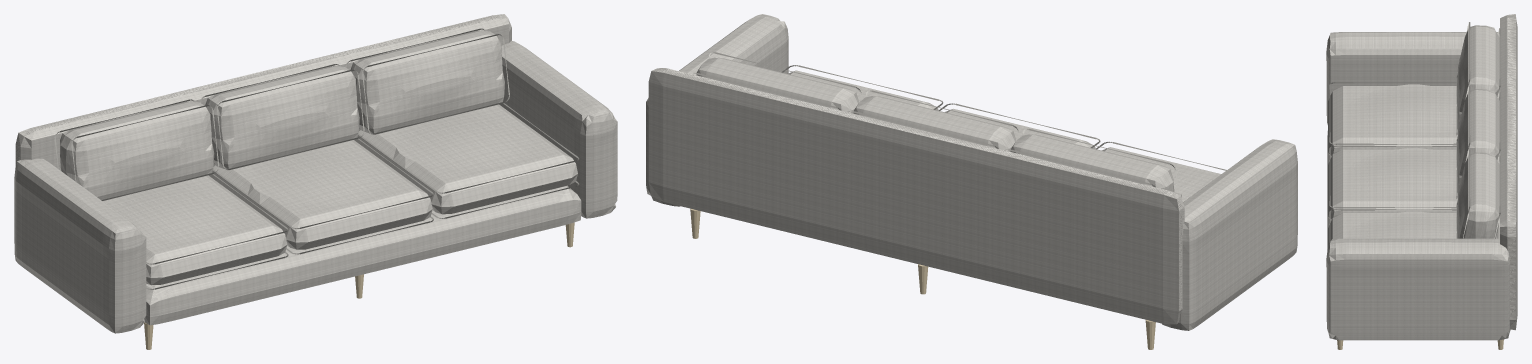
The model's file is LIT-SOF-4-seat.glb.
The picture shows the model from 3 angles, left to right: view 1: azimuth 30°, elevation 25°; view 2: azimuth 150°, elevation 25°; view 3: azimuth 270°, elevation 25°; orthographic projection. The views are drawn at different scales.
Visible parts, largest first — view 1: deck:fabric:eyJwcmVzZXQiOiJsaW5lbiIsIndhcnAiOiJ3aGl0ZSIsIndl, arm-pad-l:fabric:eyJwcmVzZXQiOiJsaW5lbiIsIndhcnAiOiJ3aGl0ZSI, seat-3:fabric:eyJwcmVzZXQiOiJsaW5lbiIsIndhcnAiOiJ3aGl0ZSIsIn, seat-2:fabric:eyJwcmVzZXQiOiJsaW5lbiIsIndhcnAiOiJ3aGl0ZSIsIn, seat-1:fabric:eyJwcmVzZXQiOiJsaW5lbiIsIndhcnAiOiJ3aGl0ZSIsIn, back-3:fabric:eyJwcmVzZXQiOiJsaW5lbiIsIndhcnAiOiJ3aGl0ZSIsIn, back-2:fabric:eyJwcmVzZXQiOiJsaW5lbiIsIndhcnAiOiJ3aGl0ZSIsIn, back-1:fabric:eyJwcmVzZXQiOiJsaW5lbiIsIndhcnAiOiJ3aGl0ZSIsIn, arm-pad-r:fabric:eyJwcmVzZXQiOiJsaW5lbiIsIndhcnAiOiJ3aGl0ZSI, back-pad:fabric:eyJwcmVzZXQiOiJsaW5lbiIsIndhcnAiOiJ3aGl0ZSIs, back-2:piping:pbr, back-3:piping:pbr (+4 smaller); view 2: back-pad:fabric:eyJwcmVzZXQiOiJsaW5lbiIsIndhcnAiOiJ3aGl0ZSIs, arm-pad-l:fabric:eyJwcmVzZXQiOiJsaW5lbiIsIndhcnAiOiJ3aGl0ZSI, arm-pad-r:fabric:eyJwcmVzZXQiOiJsaW5lbiIsIndhcnAiOiJ3aGl0ZSI, back-1:fabric:eyJwcmVzZXQiOiJsaW5lbiIsIndhcnAiOiJ3aGl0ZSIsIn, back-3:fabric:eyJwcmVzZXQiOiJsaW5lbiIsIndhcnAiOiJ3aGl0ZSIsIn, back-2:fabric:eyJwcmVzZXQiOiJsaW5lbiIsIndhcnAiOiJ3aGl0ZSIsIn, seat-1:fabric:eyJwcmVzZXQiOiJsaW5lbiIsIndhcnAiOiJ3aGl0ZSIsIn, seat-2:fabric:eyJwcmVzZXQiOiJsaW5lbiIsIndhcnAiOiJ3aGl0ZSIsIn, seat-3:fabric:eyJwcmVzZXQiOiJsaW5lbiIsIndhcnAiOiJ3aGl0ZSIsIn, back-1:piping:pbr, back-2:piping:pbr, back-3:piping:pbr; view 3: arm-pad-r:fabric:eyJwcmVzZXQiOiJsaW5lbiIsIndhcnAiOiJ3aGl0ZSI, seat-1:fabric:eyJwcmVzZXQiOiJsaW5lbiIsIndhcnAiOiJ3aGl0ZSIsIn, seat-2:fabric:eyJwcmVzZXQiOiJsaW5lbiIsIndhcnAiOiJ3aGl0ZSIsIn, arm-pad-l:fabric:eyJwcmVzZXQiOiJsaW5lbiIsIndhcnAiOiJ3aGl0ZSI, back-pad:fabric:eyJwcmVzZXQiOiJsaW5lbiIsIndhcnAiOiJ3aGl0ZSIs, seat-3:fabric:eyJwcmVzZXQiOiJsaW5lbiIsIndhcnAiOiJ3aGl0ZSIsIn, back-3:fabric:eyJwcmVzZXQiOiJsaW5lbiIsIndhcnAiOiJ3aGl0ZSIsIn, back-1:fabric:eyJwcmVzZXQiOiJsaW5lbiIsIndhcnAiOiJ3aGl0ZSIsIn, back-2:fabric:eyJwcmVzZXQiOiJsaW5lbiIsIndhcnAiOiJ3aGl0ZSIsIn, seat-2:piping:pbr, seat-1:piping:pbr, back-2:piping:pbr (+4 smaller).
Part boxes in pixels (left/top/right/bottom): deck:fabric:eyJwcmVzZXQiOiJsaW5lbiIsIndhcnAiOiJ3aGl0ZSIsIndl: left=144, top=185, right=581, bottom=325; arm-pad-l:fabric:eyJwcmVzZXQiOiJsaW5lbiIsIndhcnAiOiJ3aGl0ZSI: left=14, top=158, right=146, bottom=333; seat-3:fabric:eyJwcmVzZXQiOiJsaW5lbiIsIndhcnAiOiJ3aGl0ZSIsIn: left=354, top=104, right=577, bottom=214; seat-2:fabric:eyJwcmVzZXQiOiJsaW5lbiIsIndhcnAiOiJ3aGl0ZSIsIn: left=209, top=140, right=432, bottom=249; seat-1:fabric:eyJwcmVzZXQiOiJsaW5lbiIsIndhcnAiOiJ3aGl0ZSIsIn: left=102, top=175, right=287, bottom=285; back-3:fabric:eyJwcmVzZXQiOiJsaW5lbiIsIndhcnAiOiJ3aGl0ZSIsIn: left=350, top=30, right=504, bottom=133; back-2:fabric:eyJwcmVzZXQiOiJsaW5lbiIsIndhcnAiOiJ3aGl0ZSIsIn: left=205, top=65, right=359, bottom=169; back-1:fabric:eyJwcmVzZXQiOiJsaW5lbiIsIndhcnAiOiJ3aGl0ZSIsIn: left=60, top=101, right=214, bottom=200; arm-pad-r:fabric:eyJwcmVzZXQiOiJsaW5lbiIsIndhcnAiOiJ3aGl0ZSI: left=499, top=40, right=617, bottom=218; back-pad:fabric:eyJwcmVzZXQiOiJsaW5lbiIsIndhcnAiOiJ3aGl0ZSIs: left=15, top=14, right=511, bottom=170; back-2:piping:pbr: left=200, top=64, right=364, bottom=169; back-3:piping:pbr: left=345, top=28, right=509, bottom=134; back-pad:fabric:eyJwcmVzZXQiOiJsaW5lbiIsIndhcnAiOiJ3aGl0ZSIs: left=648, top=68, right=1184, bottom=324; arm-pad-l:fabric:eyJwcmVzZXQiOiJsaW5lbiIsIndhcnAiOiJ3aGl0ZSI: left=1162, top=139, right=1297, bottom=330; arm-pad-r:fabric:eyJwcmVzZXQiOiJsaW5lbiIsIndhcnAiOiJ3aGl0ZSI: left=646, top=14, right=788, bottom=206; back-1:fabric:eyJwcmVzZXQiOiJsaW5lbiIsIndhcnAiOiJ3aGl0ZSIsIn: left=1010, top=134, right=1174, bottom=191; back-3:fabric:eyJwcmVzZXQiOiJsaW5lbiIsIndhcnAiOiJ3aGl0ZSIsIn: left=696, top=57, right=858, bottom=113; back-2:fabric:eyJwcmVzZXQiOiJsaW5lbiIsIndhcnAiOiJ3aGl0ZSIsIn: left=853, top=96, right=1015, bottom=151; seat-1:fabric:eyJwcmVzZXQiOiJsaW5lbiIsIndhcnAiOiJ3aGl0ZSIsIn: left=1102, top=147, right=1220, bottom=201; seat-2:fabric:eyJwcmVzZXQiOiJsaW5lbiIsIndhcnAiOiJ3aGl0ZSIsIn: left=945, top=108, right=1095, bottom=148; seat-3:fabric:eyJwcmVzZXQiOiJsaW5lbiIsIndhcnAiOiJ3aGl0ZSIsIn: left=788, top=70, right=938, bottom=110; back-1:piping:pbr: left=1006, top=128, right=1178, bottom=192; back-2:piping:pbr: left=849, top=90, right=1019, bottom=148; back-3:piping:pbr: left=692, top=52, right=862, bottom=110; arm-pad-r:fabric:eyJwcmVzZXQiOiJsaW5lbiIsIndhcnAiOiJ3aGl0ZSI: left=1326, top=238, right=1510, bottom=340; seat-1:fabric:eyJwcmVzZXQiOiJsaW5lbiIsIndhcnAiOiJ3aGl0ZSIsIn: left=1328, top=84, right=1457, bottom=157; seat-2:fabric:eyJwcmVzZXQiOiJsaW5lbiIsIndhcnAiOiJ3aGl0ZSIsIn: left=1328, top=148, right=1457, bottom=220; arm-pad-l:fabric:eyJwcmVzZXQiOiJsaW5lbiIsIndhcnAiOiJ3aGl0ZSI: left=1326, top=32, right=1499, bottom=124; back-pad:fabric:eyJwcmVzZXQiOiJsaW5lbiIsIndhcnAiOiJ3aGl0ZSIs: left=1500, top=14, right=1517, bottom=330; seat-3:fabric:eyJwcmVzZXQiOiJsaW5lbiIsIndhcnAiOiJ3aGl0ZSIsIn: left=1328, top=211, right=1499, bottom=247; back-3:fabric:eyJwcmVzZXQiOiJsaW5lbiIsIndhcnAiOiJ3aGl0ZSIsIn: left=1456, top=152, right=1499, bottom=238; back-1:fabric:eyJwcmVzZXQiOiJsaW5lbiIsIndhcnAiOiJ3aGl0ZSIsIn: left=1456, top=25, right=1499, bottom=129; back-2:fabric:eyJwcmVzZXQiOiJsaW5lbiIsIndhcnAiOiJ3aGl0ZSIsIn: left=1456, top=89, right=1499, bottom=193; seat-2:piping:pbr: left=1329, top=145, right=1456, bottom=224; seat-1:piping:pbr: left=1329, top=82, right=1456, bottom=161; back-2:piping:pbr: left=1456, top=85, right=1500, bottom=200.
Size of the model in its own units: 2.6 by 0.78 by 0.95.
22 materials, 10 textured.
